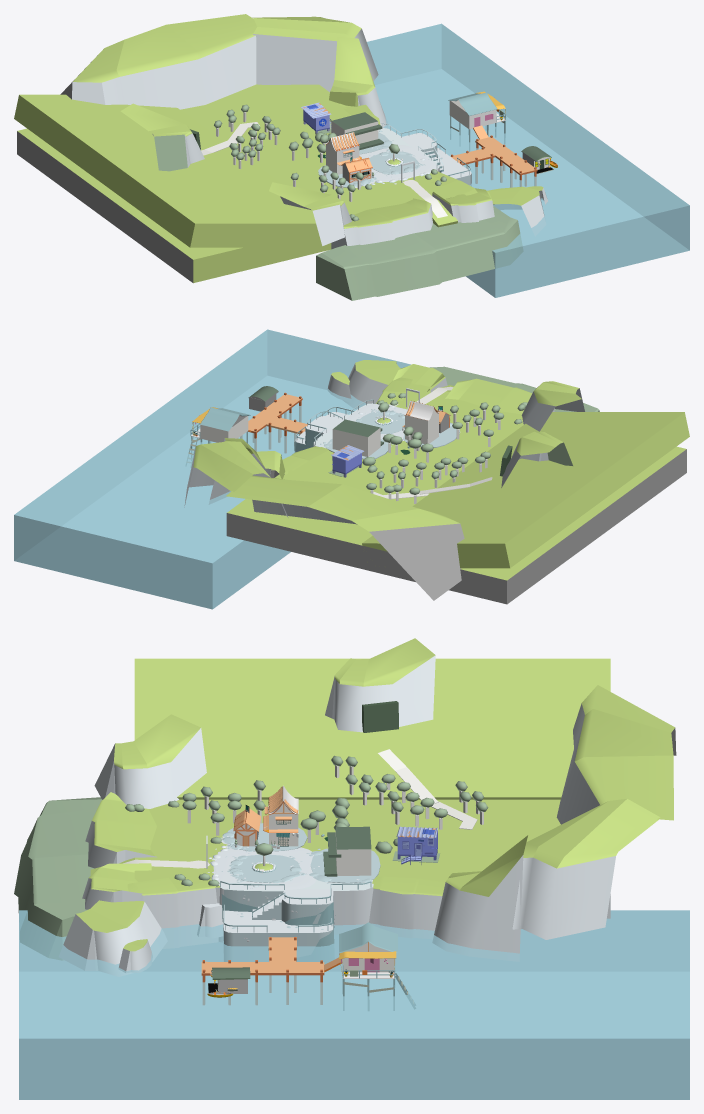
The model's file is TownModels.fbx.
3 views of the same model, one above another, from view 1: azimuth 30°, elevation 25°; view 2: azimuth 150°, elevation 25°; view 3: azimuth 270°, elevation 25° (orthographic). The views are drawn at different scales.
Parts seen in each view (by area): view 1: water_OBJ, pPlane56, pPlane48, pasted__rightCliff02_OBJ1, pasted__leftCliff_OBJ4, pasted__rightCliff02_OBJ, pasted__leftCliff_OBJ1, pasted__rightCliff01_OBJ, caveCliff_OBJ, pasted__rightCliff01_OBJ1, pasted__rightCliff01_OBJ2, pasted__leftCliff_OBJ6 (+12 smaller); view 2: water_OBJ, pPlane48, pPlane56, pasted__rightCliff02_OBJ1, pasted__rightCliff02_OBJ, pasted__rightCliff01_OBJ1, pasted__leftCliff_OBJ1, pasted__rightCliff01_OBJ2, caveCliff_OBJ, pubPlaceholder_OBJ, pasted__rightCliff01_OBJ, pasted__leftCliff_OBJ4 (+11 smaller); view 3: water_OBJ, pPlane56, pPlane48, pasted__rightCliff02_OBJ, pasted__rightCliff02_OBJ1, pasted__leftCliff_OBJ4, pasted__rightCliff01_OBJ, pasted__rightCliff01_OBJ1, caveCliff_OBJ, pasted__rightCliff01_OBJ2, pasted__leftCliff_OBJ5, pasted__leftCliff_OBJ3 (+16 smaller).
Boxes of the visible parts, bbox=[...] form: water_OBJ: bbox=[367, 23, 689, 297]; pPlane56: bbox=[14, 94, 328, 247]; pPlane48: bbox=[17, 84, 463, 283]; pasted__rightCliff02_OBJ1: bbox=[60, 14, 256, 109]; pasted__leftCliff_OBJ4: bbox=[316, 206, 523, 300]; pasted__rightCliff02_OBJ: bbox=[252, 16, 378, 91]; pasted__leftCliff_OBJ1: bbox=[331, 198, 432, 249]; pasted__rightCliff01_OBJ: bbox=[329, 37, 387, 128]; caveCliff_OBJ: bbox=[120, 103, 204, 171]; pasted__rightCliff01_OBJ1: bbox=[269, 182, 351, 245]; pasted__rightCliff01_OBJ2: bbox=[487, 186, 545, 236]; pasted__leftCliff_OBJ6: bbox=[432, 188, 494, 222]; water_OBJ: bbox=[14, 329, 410, 609]; pPlane48: bbox=[226, 383, 686, 604]; pPlane56: bbox=[362, 412, 689, 568]; pasted__rightCliff02_OBJ1: bbox=[226, 475, 464, 600]; pasted__rightCliff02_OBJ: bbox=[184, 440, 288, 517]; pasted__rightCliff01_OBJ1: bbox=[521, 381, 584, 431]; pasted__leftCliff_OBJ1: bbox=[445, 378, 554, 414]; pasted__rightCliff01_OBJ2: bbox=[343, 360, 400, 409]; caveCliff_OBJ: bbox=[501, 431, 572, 487]; pubPlaceholder_OBJ: bbox=[332, 419, 380, 456]; pasted__rightCliff01_OBJ: bbox=[209, 438, 285, 504]; pasted__leftCliff_OBJ4: bbox=[429, 366, 599, 411]; water_OBJ: bbox=[19, 910, 689, 1099]; pPlane56: bbox=[134, 658, 610, 799]; pPlane48: bbox=[134, 799, 610, 918]; pasted__rightCliff02_OBJ: bbox=[512, 798, 660, 939]; pasted__rightCliff02_OBJ1: bbox=[556, 685, 676, 824]; pasted__leftCliff_OBJ4: bbox=[14, 797, 101, 960]; pasted__rightCliff01_OBJ: bbox=[432, 835, 527, 961]; pasted__rightCliff01_OBJ1: bbox=[94, 714, 206, 808]; caveCliff_OBJ: bbox=[325, 638, 435, 732]; pasted__rightCliff01_OBJ2: bbox=[59, 900, 167, 976]; pasted__leftCliff_OBJ5: bbox=[369, 876, 445, 938]; pasted__leftCliff_OBJ3: bbox=[127, 876, 218, 948].
Size of what is drawn, in the model's own units: 484 by 137 by 459.
